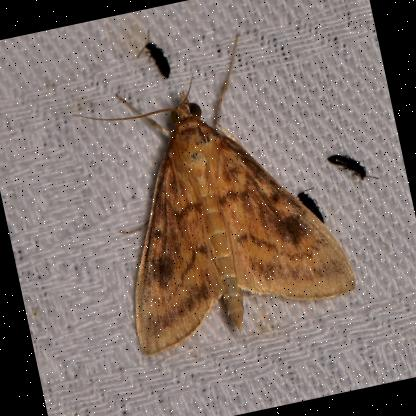Asian Corn Borer Moth: (58, 16, 366, 365)
